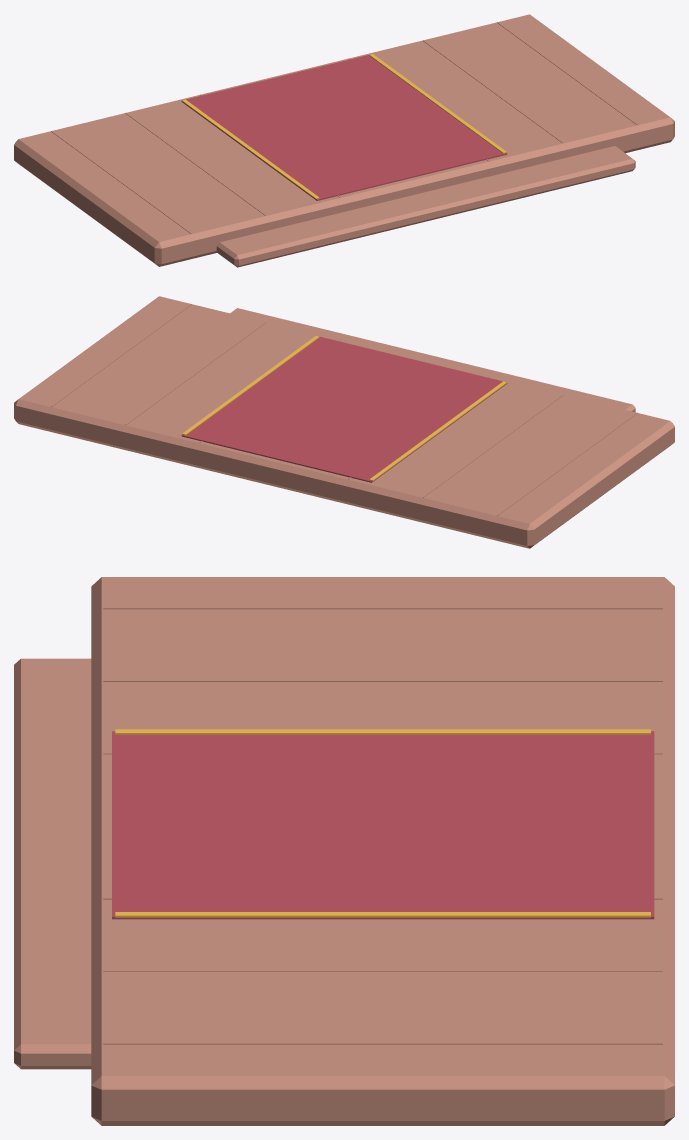
The picture shows the model from 3 angles, top to bottom: view 1: azimuth 30°, elevation 25°; view 2: azimuth 150°, elevation 25°; view 3: azimuth 270°, elevation 25°; orthographic projection. The views are drawn at different scales.
Parts seen in each view (by area): view 1: Sanctuary platform, Stage carpet, Entry step, Carpet border, Carpet border.001; view 2: Sanctuary platform, Stage carpet, Entry step, Carpet border, Carpet border.001; view 3: Sanctuary platform, Stage carpet, Entry step, Carpet border, Carpet border.001, Wood seam, Wood seam.005, Wood seam.001, Wood seam.004.
Boxes of the visible parts, <box> form: Sanctuary platform: <box>14,14,674,266</box>; Stage carpet: <box>181,55,507,200</box>; Entry step: <box>216,146,635,267</box>; Carpet border: <box>182,99,319,198</box>; Carpet border.001: <box>369,54,506,153</box>; Sanctuary platform: <box>14,296,674,548</box>; Stage carpet: <box>181,336,507,482</box>; Entry step: <box>230,308,635,412</box>; Carpet border: <box>369,381,506,480</box>; Carpet border.001: <box>182,336,319,435</box>; Sanctuary platform: <box>91,577,674,1125</box>; Stage carpet: <box>112,731,654,919</box>; Entry step: <box>14,658,91,1069</box>; Carpet border: <box>115,729,650,734</box>; Carpet border.001: <box>115,912,650,917</box>; Wood seam: <box>103,607,662,609</box>; Wood seam.005: <box>103,1042,662,1044</box>; Wood seam.001: <box>103,680,662,681</box>; Wood seam.004: <box>103,970,662,971</box>.
Bounding box in the file's own units: 3.5 × 0.173 × 1.93.
1 material, 1 textured.
